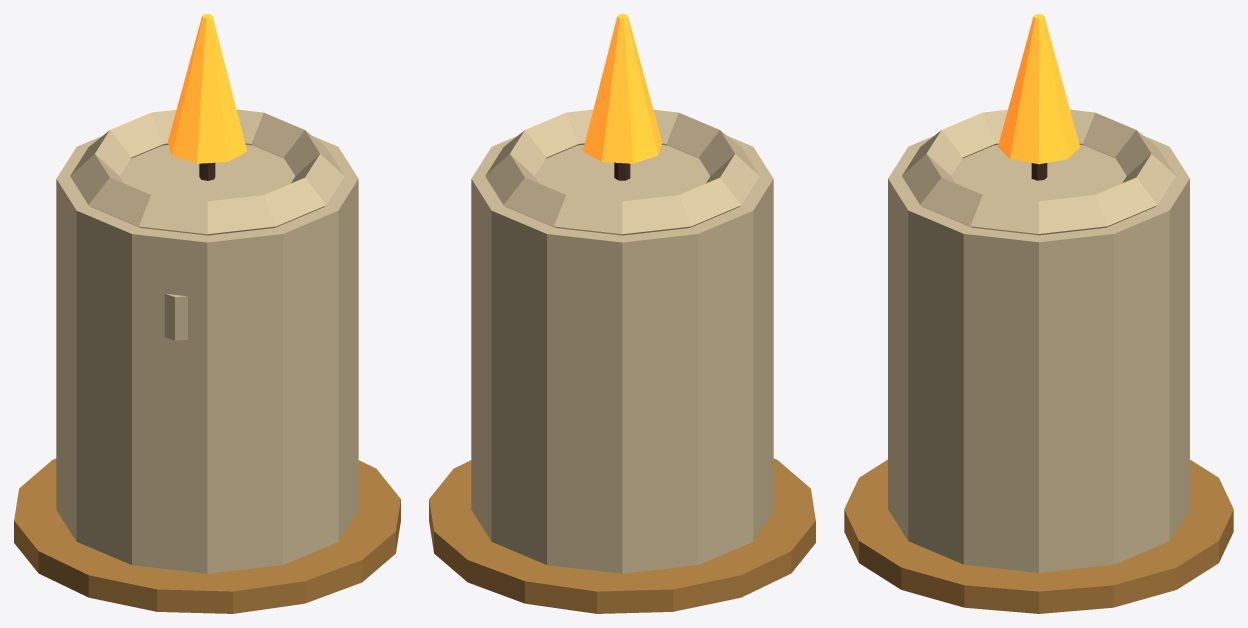
The model's file is candle.glb.
3 renders of one model, left to right at view 1: azimuth 30°, elevation 25°; view 2: azimuth 150°, elevation 25°; view 3: azimuth 270°, elevation 25°, orthographic.
Visible parts, largest first — view 1: WaxBody, Holder, MeltedRim, Flame, WaxDrip0; view 2: WaxBody, Holder, MeltedRim, Flame; view 3: WaxBody, Holder, MeltedRim, Flame.
Part boxes in pixels (box(x1,y1,x2,y2)): WaxBody: box(56, 136, 358, 573); Holder: box(14, 458, 400, 613); MeltedRim: box(70, 109, 344, 235); Flame: box(167, 14, 247, 163); WaxDrip0: box(164, 293, 187, 340); WaxBody: box(471, 136, 773, 573); Holder: box(429, 458, 815, 613); MeltedRim: box(485, 109, 759, 235); Flame: box(582, 14, 662, 163); WaxBody: box(888, 136, 1189, 572); Holder: box(844, 459, 1233, 613); MeltedRim: box(902, 109, 1175, 235); Flame: box(998, 14, 1079, 164).
Size of the model in its own units: 2.84 by 4.14 by 2.84.
